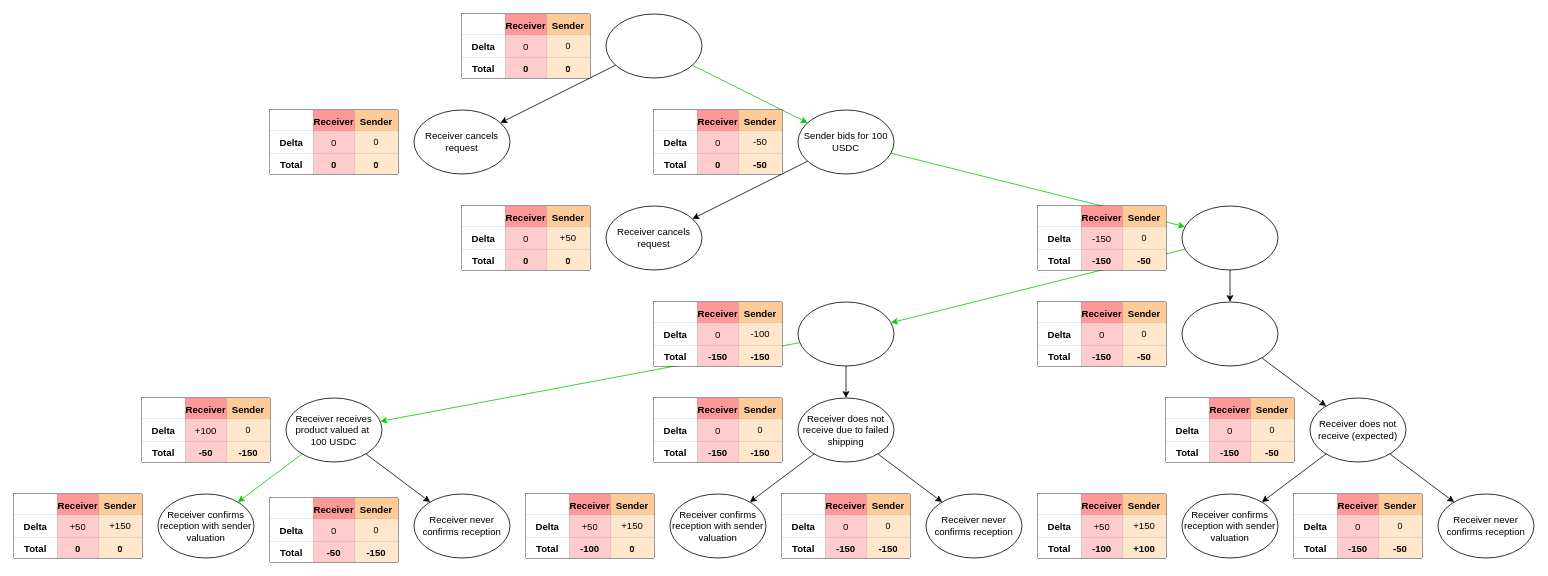
Image size: 1548x576. Some labels were removed from this diagram. The shapes that lost their labels are listed below. From the top down, each one's box as (x1, y1, x2, y2) in pixels, then its label:
(605, 13, 702, 78): Receiver generates request for a product
(1181, 205, 1278, 270): Sender accepts bid
(797, 301, 894, 366): Sender sends product that the receiver values at 100 USDC
(1181, 301, 1278, 366): Sender does not send product
